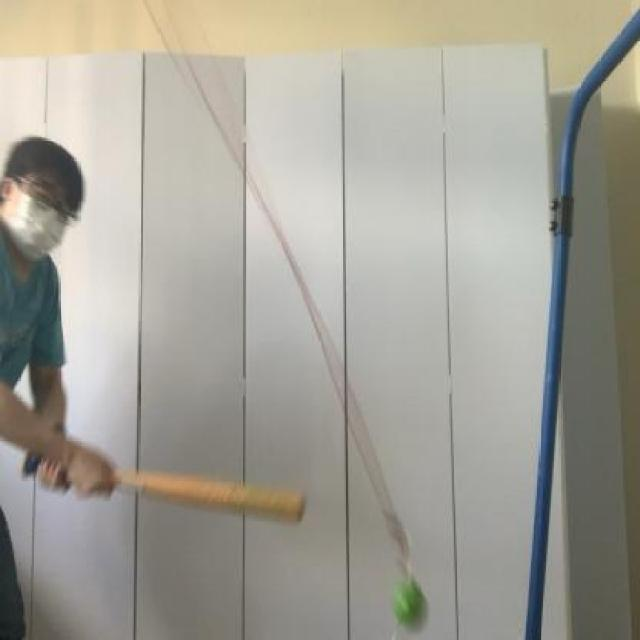baseball: (390, 564, 436, 638)
